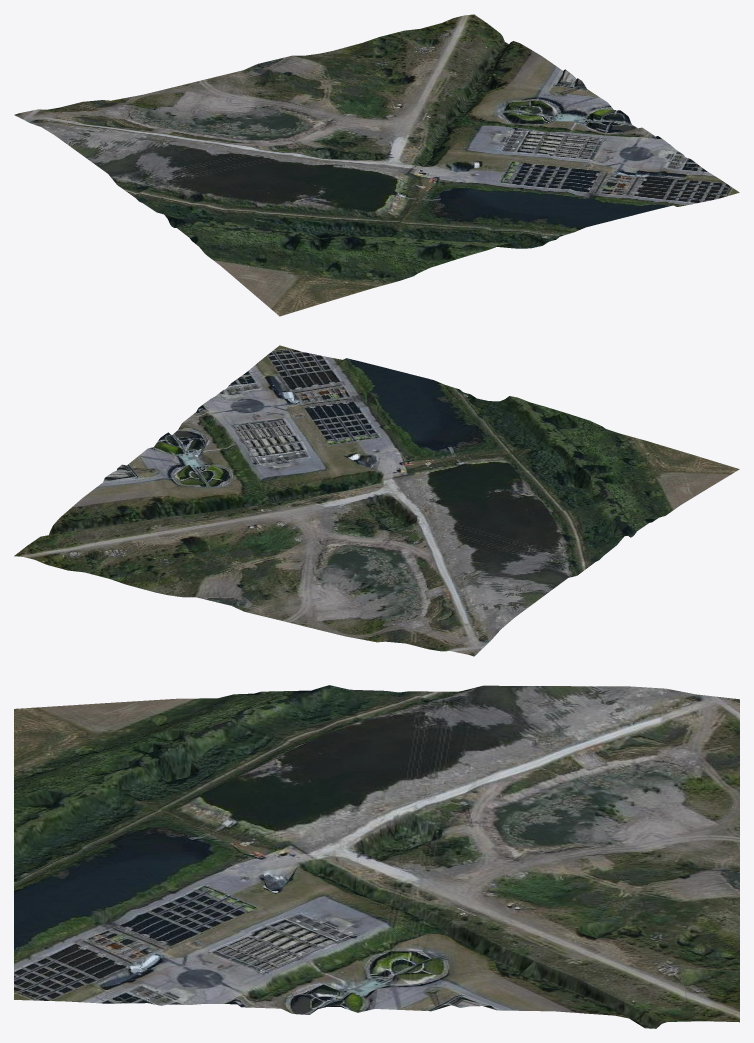
The model's file is map_13_2044_3444.dae.
3 views of the same model, one above another, from view 1: azimuth 30°, elevation 25°; view 2: azimuth 150°, elevation 25°; view 3: azimuth 270°, elevation 25° (orthographic). The views are drawn at different scales.
Visible parts, largest first — view 1: Ter0; view 2: Ter0; view 3: Ter0.
Part boxes in pixels (x1,y1,x2,y2): Ter0: (14,14,739,316); Ter0: (14,345,739,656); Ter0: (14,685,739,1028).
Size of the model in its own units: 256 by 256 by 14.4.
3 materials, 3 textured.
